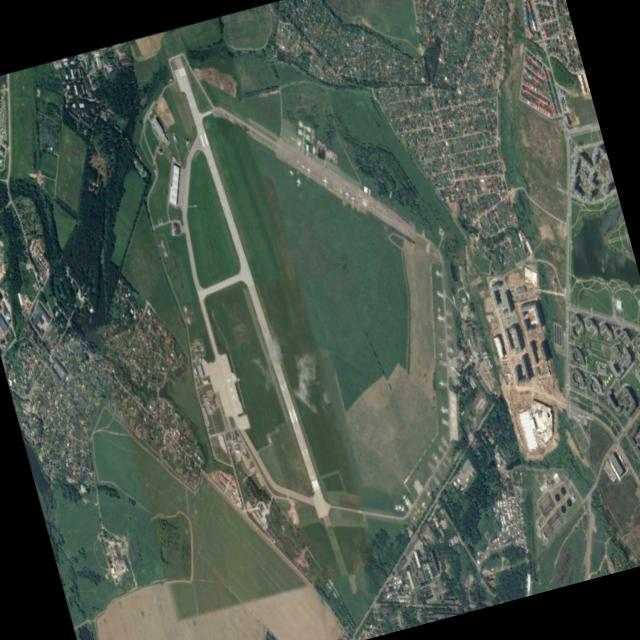plane: (320, 175, 329, 186), (418, 499, 426, 510), (286, 167, 294, 177), (295, 177, 302, 188), (424, 488, 431, 499), (435, 313, 442, 322), (439, 406, 446, 414), (305, 165, 310, 175), (438, 378, 443, 387), (435, 306, 441, 313), (437, 351, 443, 358)
storage-tank: (558, 486, 567, 496), (564, 498, 572, 508), (552, 493, 560, 502), (559, 505, 566, 514)
